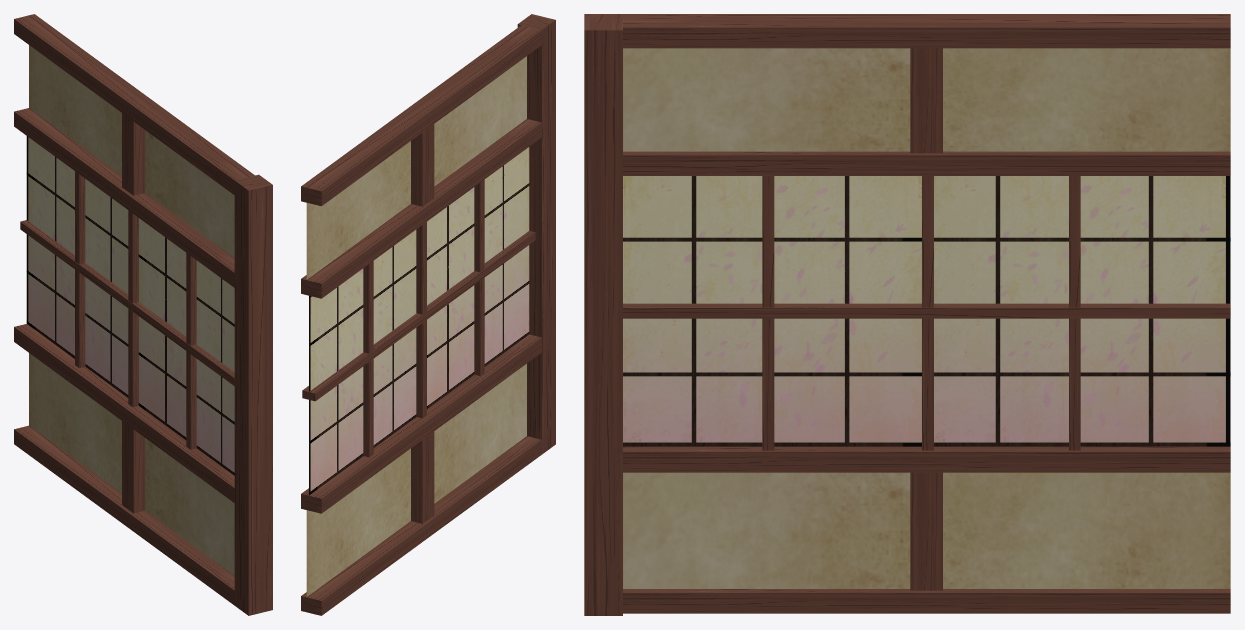
The model's file is SM_windowWall.fbx.
3 views of the same model, side by side, from view 1: azimuth 30°, elevation 25°; view 2: azimuth 150°, elevation 25°; view 3: azimuth 270°, elevation 25° (orthographic). The views are drawn at different scales.
Visible parts, largest first — view 1: SM_windowWall; view 2: SM_windowWall; view 3: SM_windowWall.
Part boxes in pixels (x1,y1,x2,y2): SM_windowWall: (14, 14, 272, 615); SM_windowWall: (301, 14, 555, 615); SM_windowWall: (584, 14, 1230, 615).
Size of the model in its own units: 1786 by 30000 by 30000.
